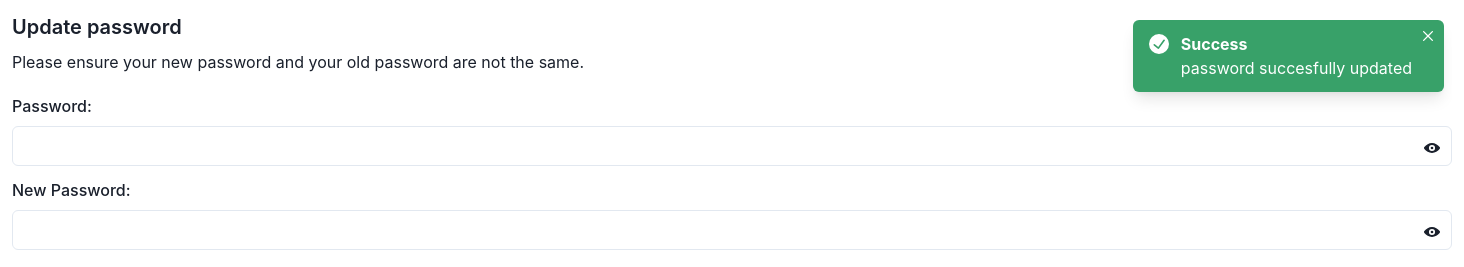
Test: UpdatePasswordForm › should handle submission errors
The image size is (1464, 267).
Type "oldpassword" into the password field labelled "Password:".
click(732, 146); type("oldpassword")  # box [12,126,1452,166]
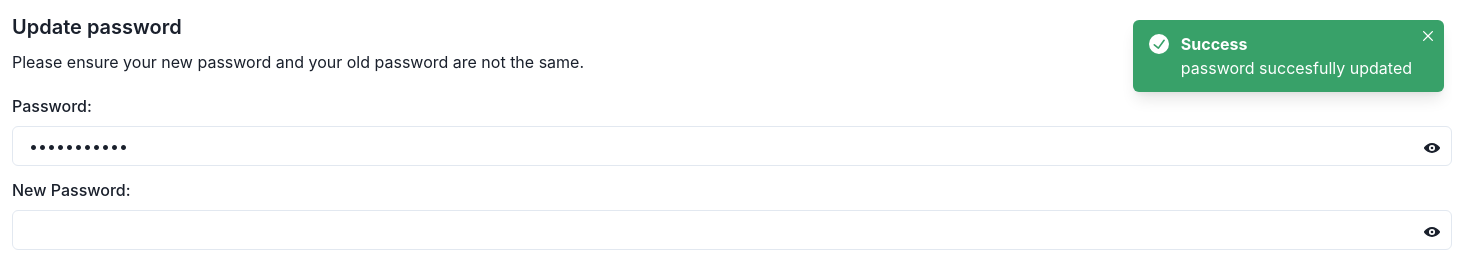
Type "newpassword" into the password field labelled "New Password:".
click(732, 230); type("newpassword")  # box [12,210,1452,250]
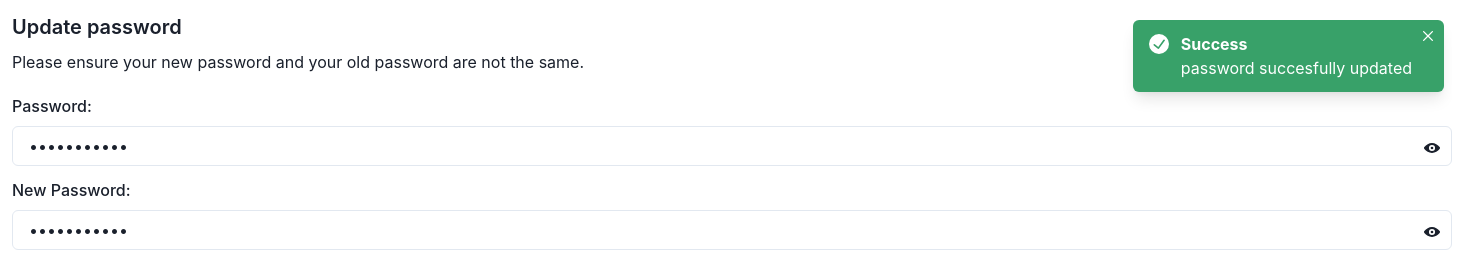
Submit the form, box [12,94,1452,250]
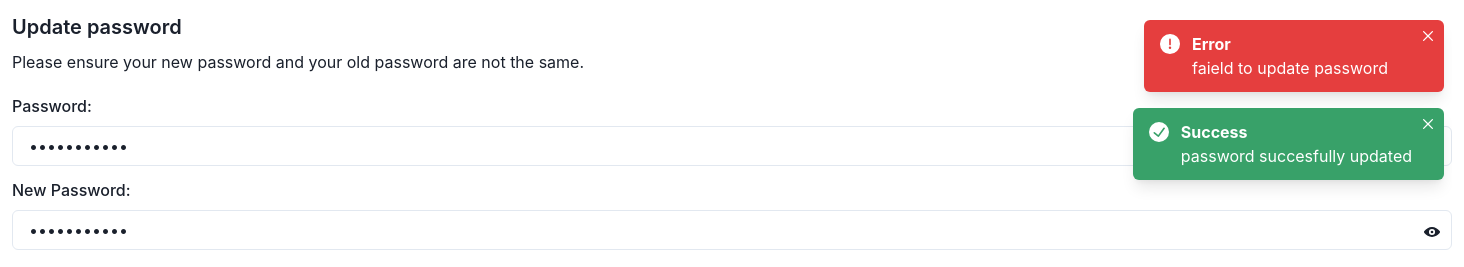
Expected: the 1st text "faield to update password" is shown, [1192,56,1412,80]
